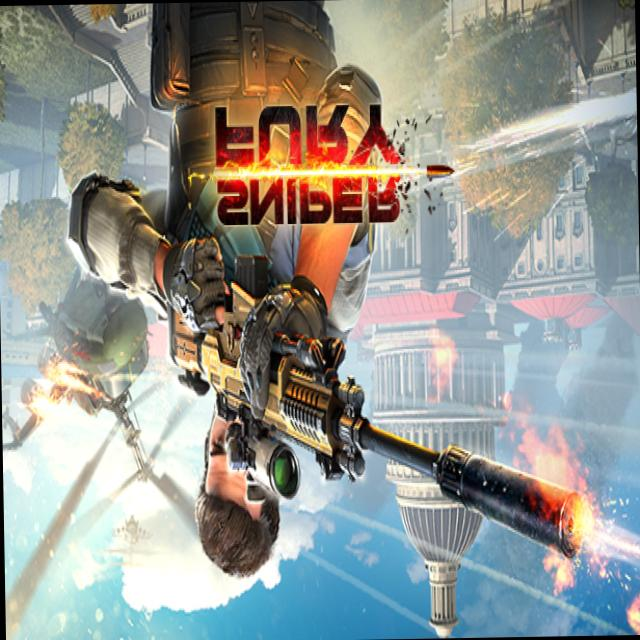Weapon: (126, 229, 590, 576)
